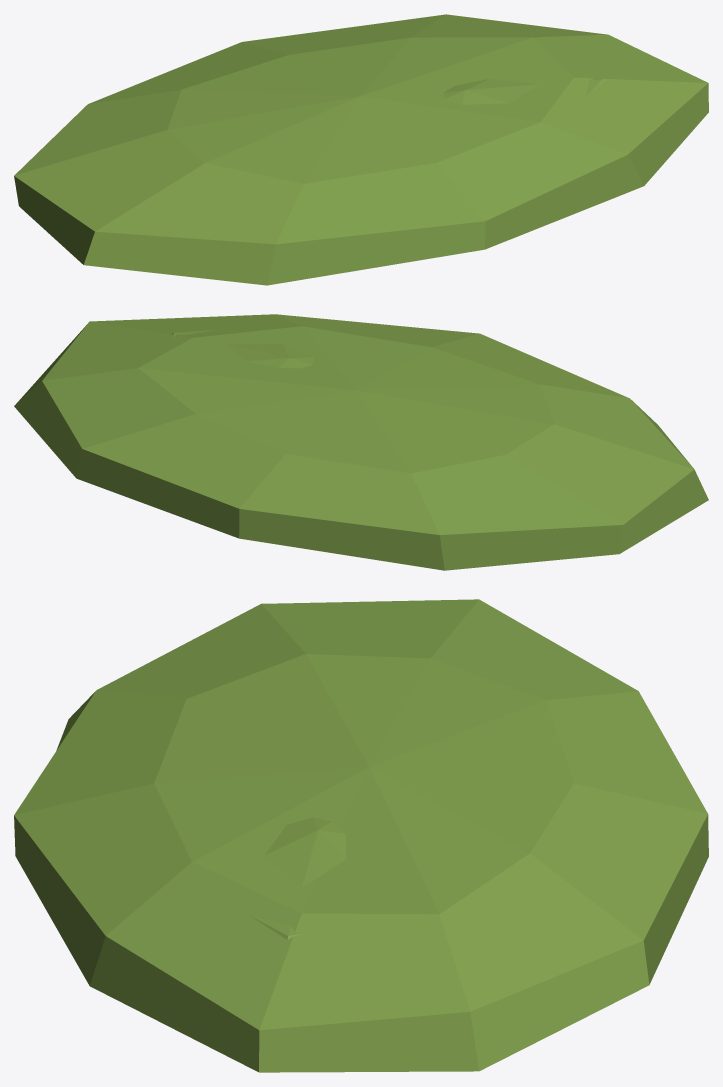
The model's file is moss_b.glb.
3 renders of one model, top to bottom at view 1: azimuth 30°, elevation 25°; view 2: azimuth 150°, elevation 25°; view 3: azimuth 270°, elevation 25°, orthographic. The views are drawn at different scales.
Visible parts, largest first — view 1: Moss; view 2: Moss; view 3: Moss.
Part boxes in pixels (x1,y1,x2,y2): Moss: [14, 14, 708, 285]; Moss: [14, 314, 708, 570]; Moss: [14, 599, 708, 1072].
Size of the model in its own units: 16.88 by 2.5 by 11.39.
